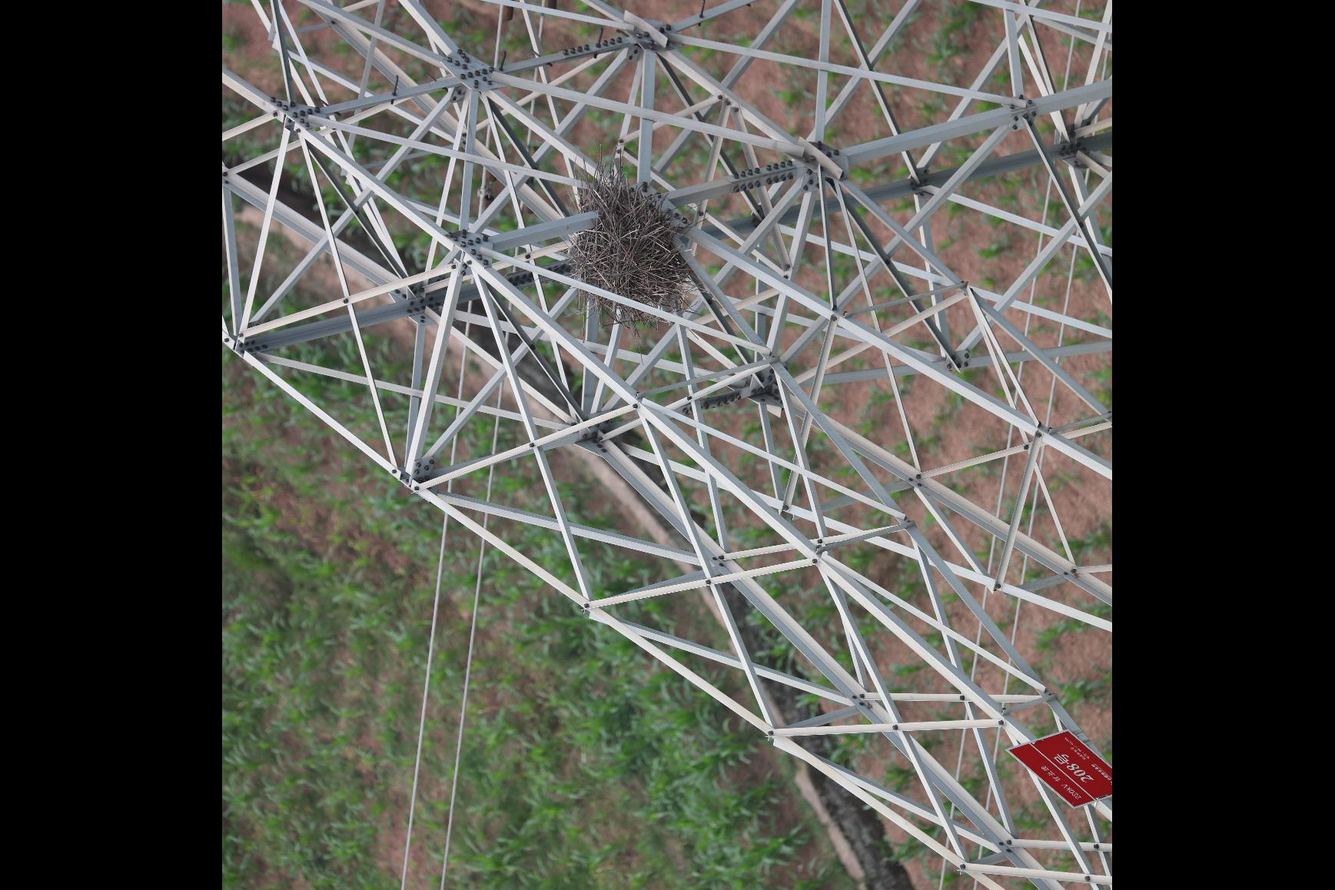nest: (563, 158, 699, 330)
